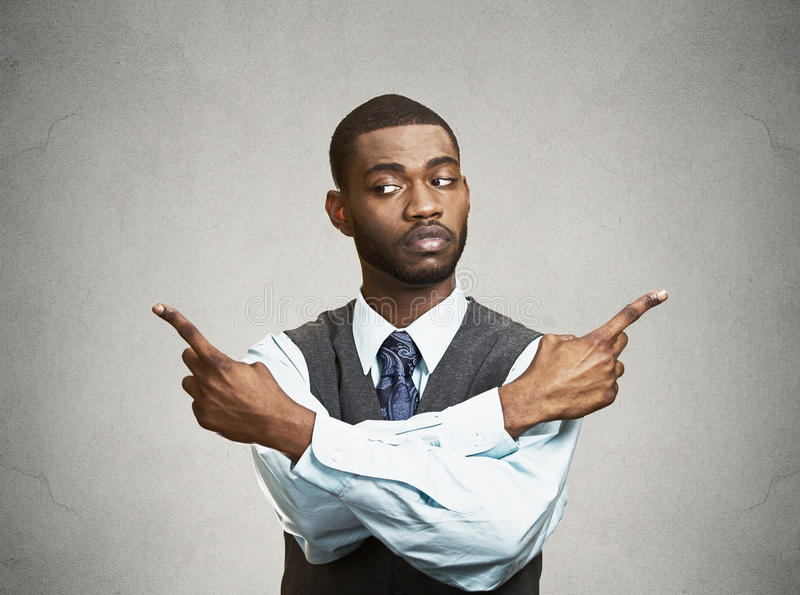confused: (350, 146, 482, 294)
